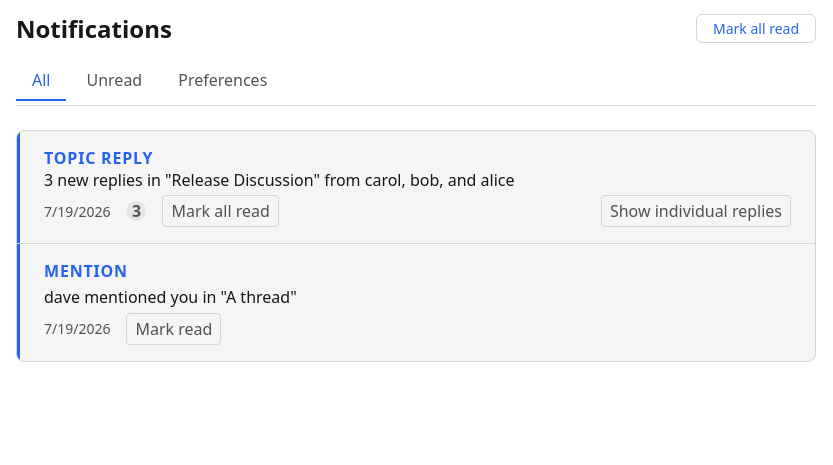
Test case: NotificationsPage digest preference › defaults to off when no digest preference has been saved
The width and height of the screenshot is (833, 465).
Step 1. Click the button "Preferences" → (223, 81), box [162,61,283,101]
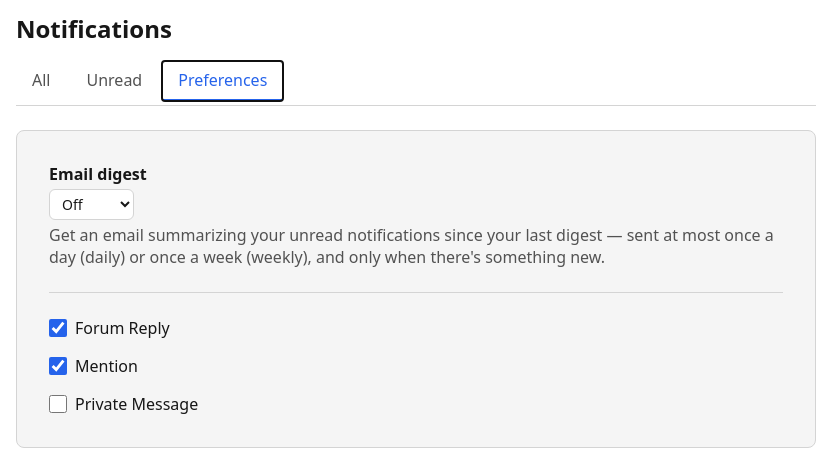
expect the dropdown labelled "Email digest" shows "Off": met, box [49,189,134,220]
